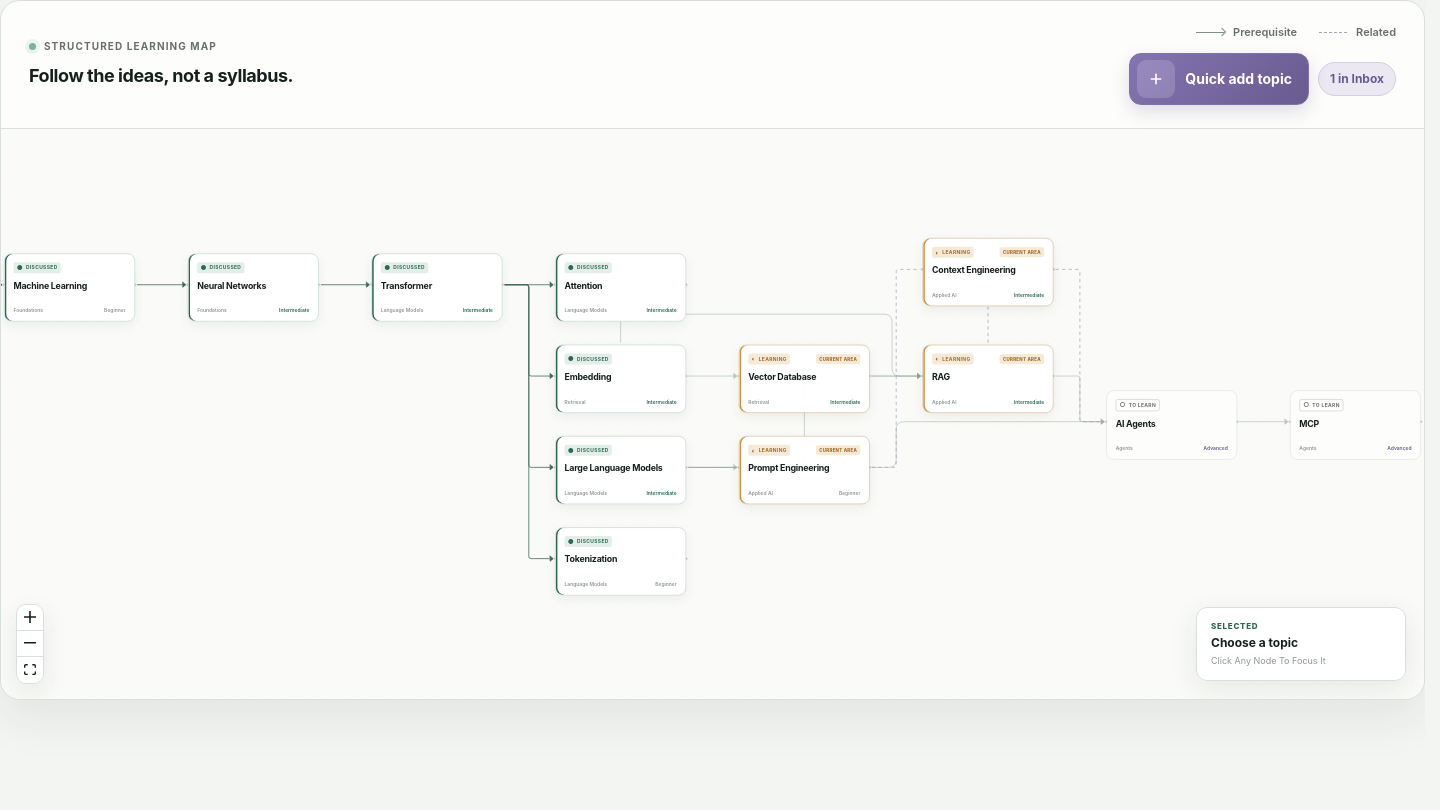
Test: LearningMap › shows Quick Add only for admins, collapsed until clicked
Expected: the text "1 in Inbox" is shown, [1318,62,1396,96]
Expected: the field with placeholder "Topic title" is not shown
Click the button "Quick add topic" at point(1219, 78), box [1129,52,1309,104]
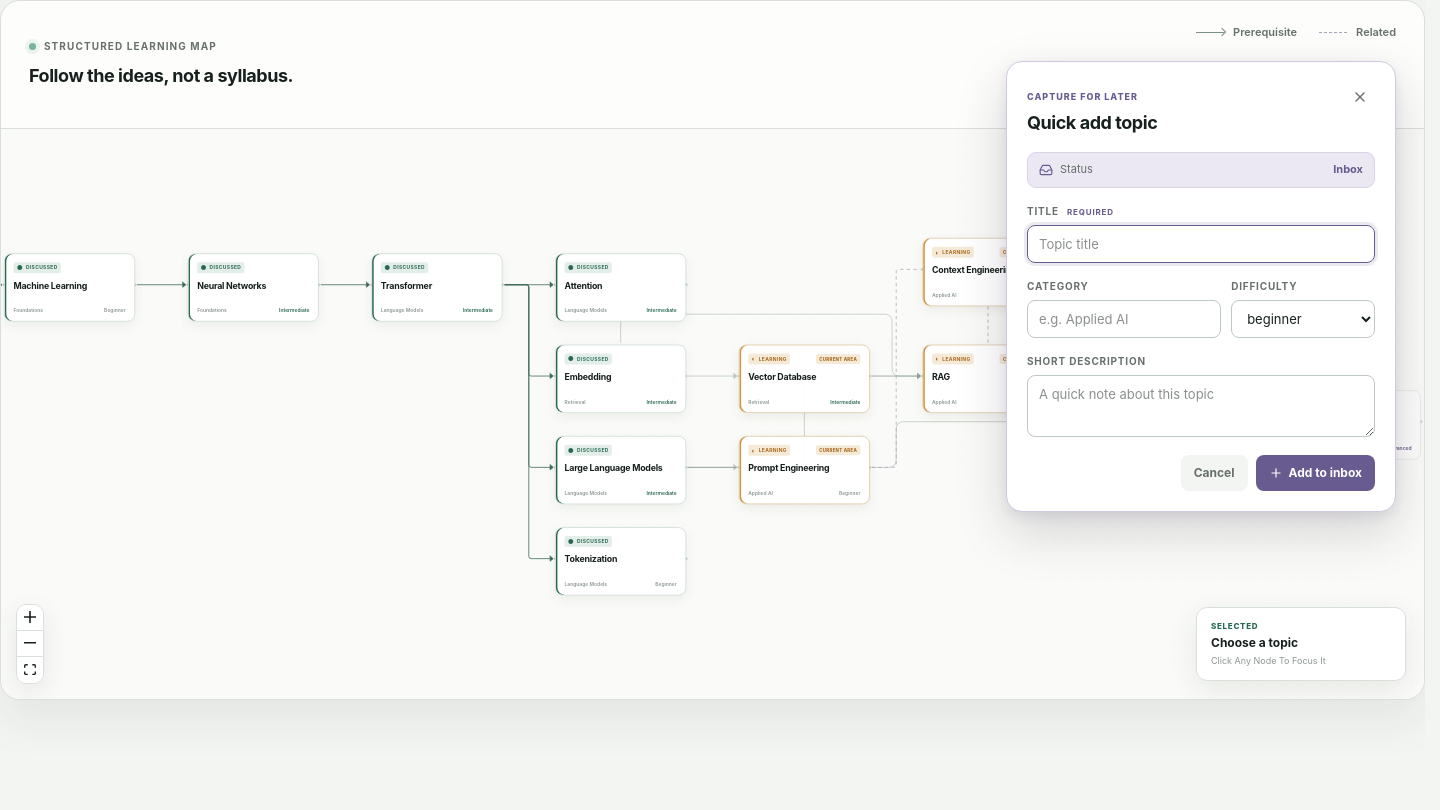
Now the field with placeholder "Topic title" is shown, box [1027,224,1375,262]
Now the field labelled "Category" is shown, box [1027,300,1221,338]
Now the dropdown labelled "Difficulty" shows "beginner", box [1231,300,1375,338]
